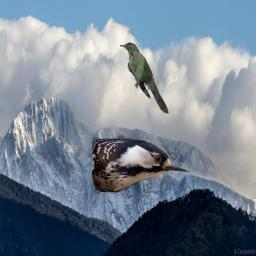Cuckoo: (120, 42, 171, 114)
Woodpecker: (92, 134, 189, 194)
